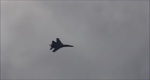maybay_muctieu: (47, 36, 76, 55)
